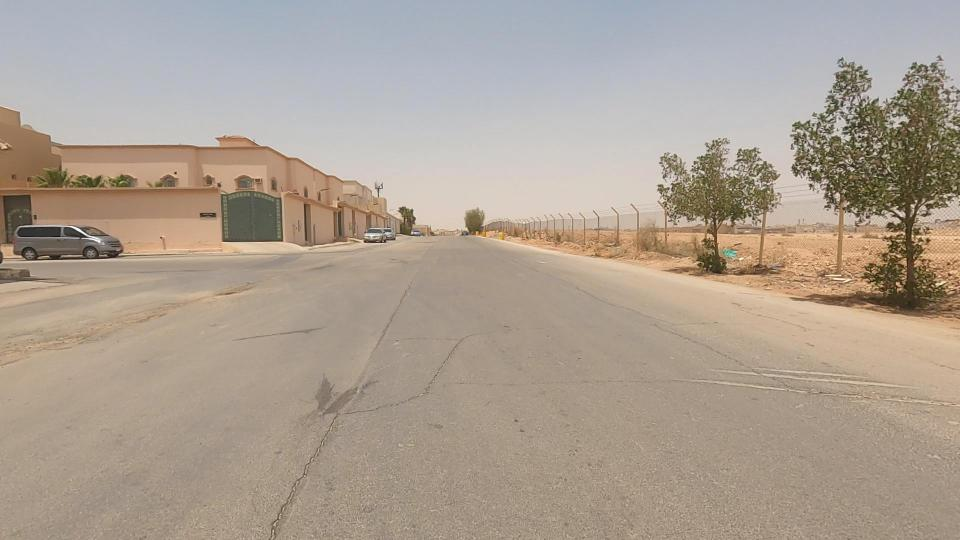GARBAGE: (0, 302, 143, 375), (161, 259, 296, 319), (82, 281, 193, 353), (684, 220, 782, 284)
